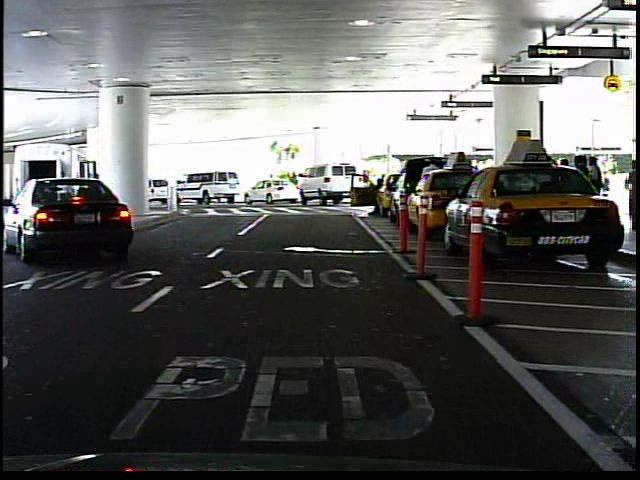person: (622, 160, 639, 230), (368, 169, 386, 220), (600, 166, 615, 200), (289, 169, 302, 201), (268, 173, 278, 181)
